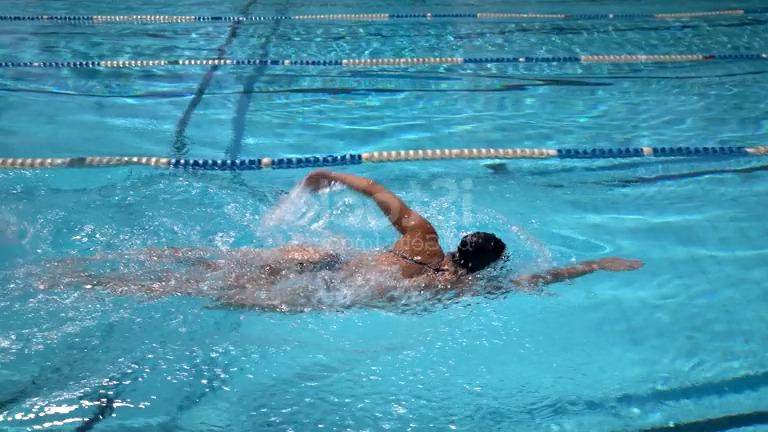Swimming: (21, 167, 648, 319)
